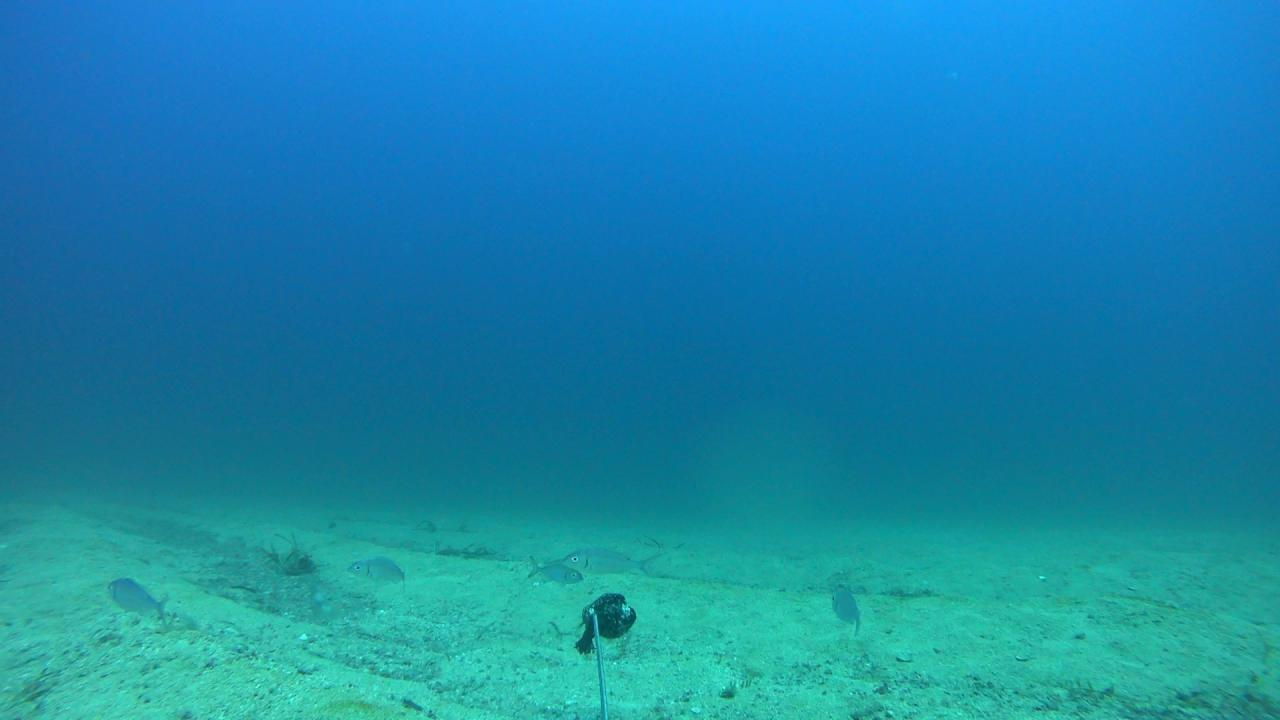pagellus: (561, 544, 664, 576), (105, 575, 171, 624), (345, 556, 409, 590), (525, 553, 584, 586), (825, 587, 862, 636)
